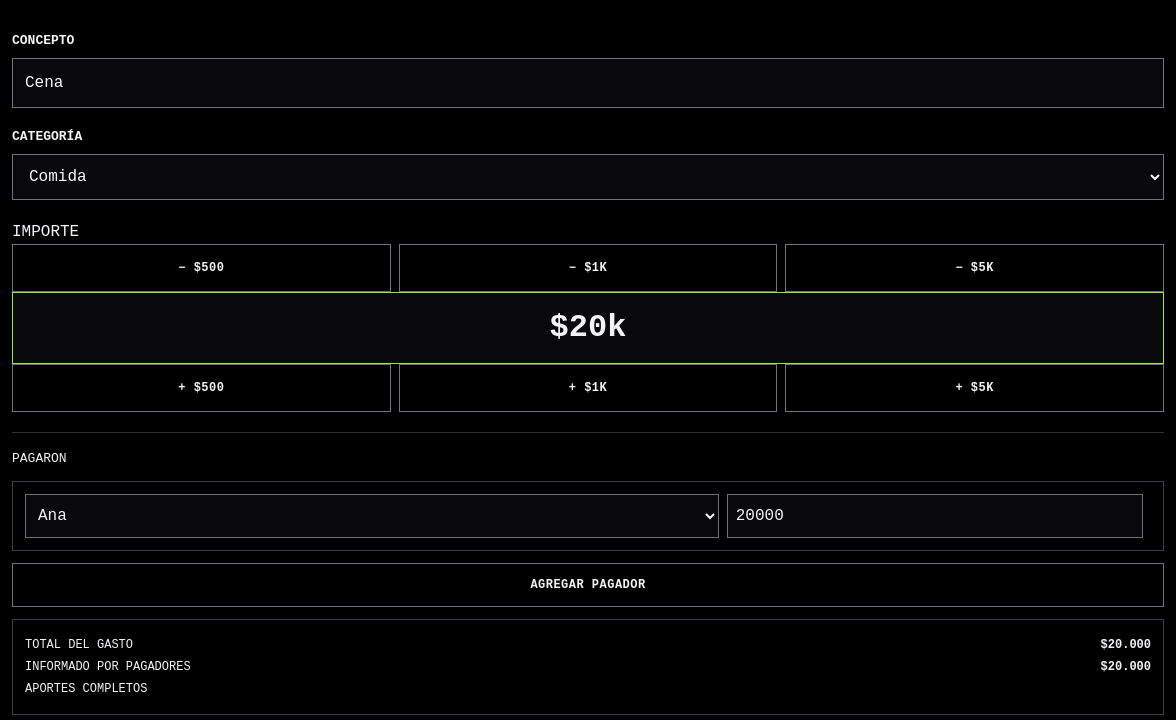
Scenario: ExpenseForm multipayer interactions › allows a payer contribution to be cleared and replaced without restoring its prior value
Clear the field named "Aporte de Ana". click: [935, 516]
box: x1=727 y1=494 x2=1143 y2=538
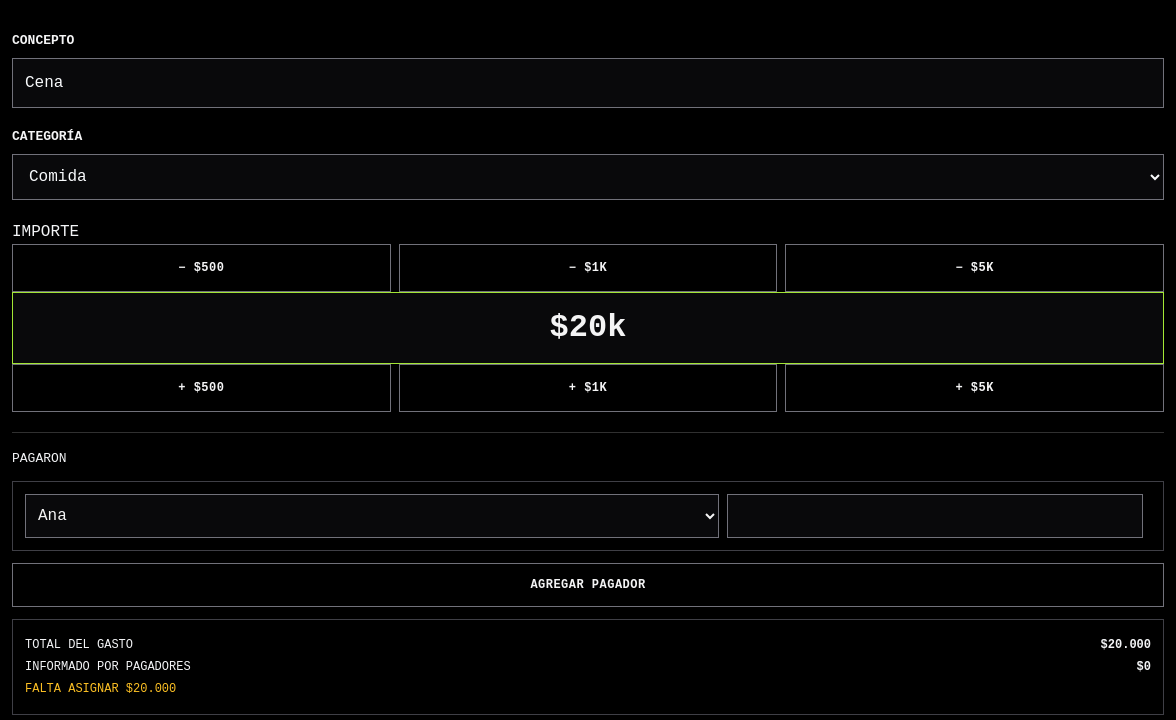
Check: the text "FALTA ASIGNAR $20.000" is shown, box x1=25 y1=682 x2=176 y2=696
Type "10k" into the field named "Aporte de Ana". click: [935, 516]
box: x1=727 y1=494 x2=1143 y2=538
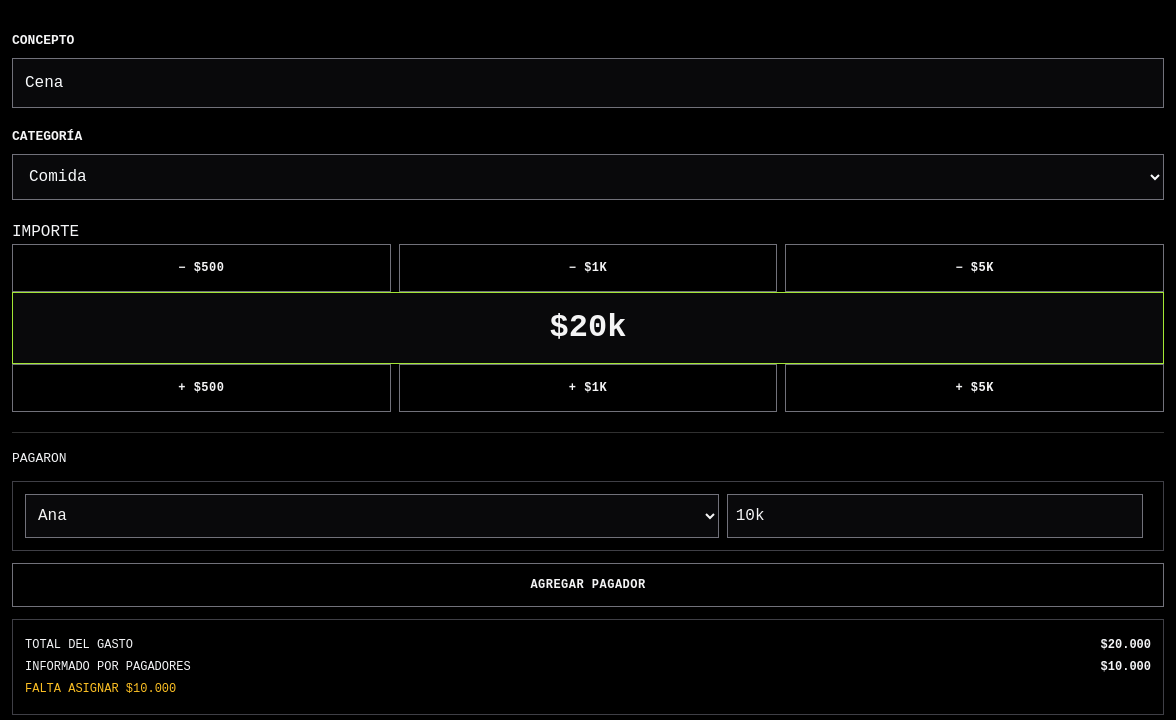
Leave the field named "Aporte de Ana", box x1=727 y1=494 x2=1143 y2=538
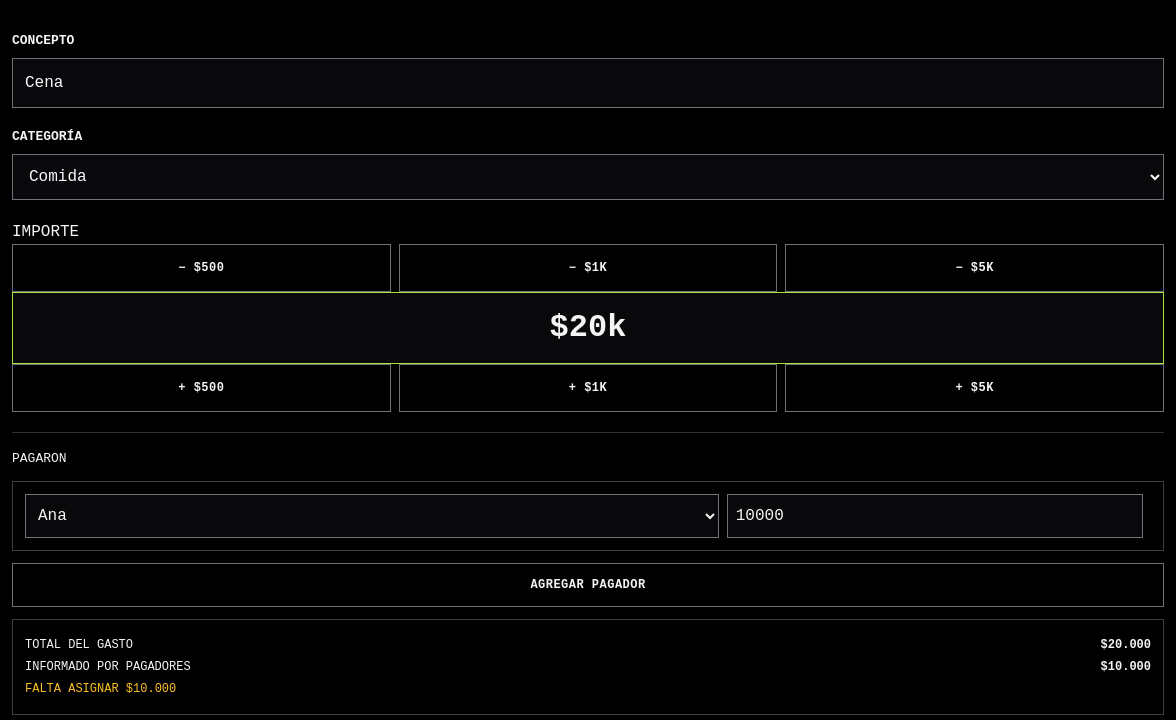
Check: the field named "Aporte de Ana" holds "10000", box x1=727 y1=494 x2=1143 y2=538
